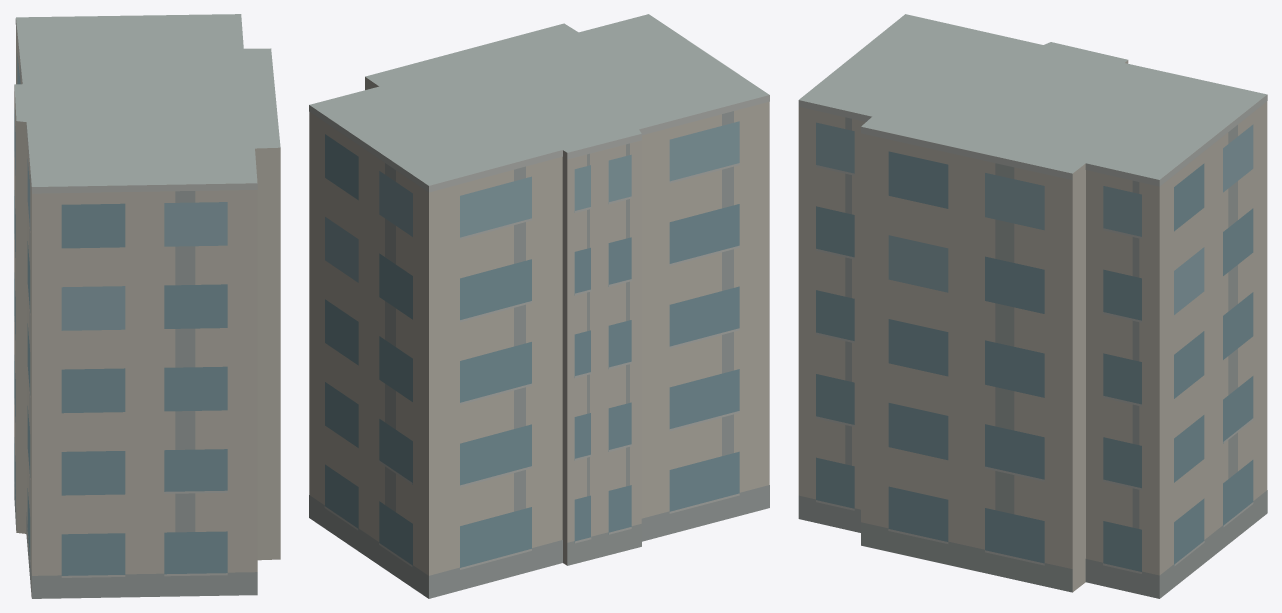
File: survey-upis-32479537.glb
The picture shows the model from 3 angles, left to right: view 1: azimuth 30°, elevation 25°; view 2: azimuth 150°, elevation 25°; view 3: azimuth 270°, elevation 25°; orthographic projection.
Visible parts, largest first — view 1: survey-upis-32479537.tmp; view 2: survey-upis-32479537.tmp; view 3: survey-upis-32479537.tmp.
Part boxes in pixels (left/top/right/bottom): survey-upis-32479537.tmp: left=14, top=14, right=280, bottom=598; survey-upis-32479537.tmp: left=309, top=14, right=769, bottom=598; survey-upis-32479537.tmp: left=798, top=14, right=1267, bottom=598.
Bounding box in the file's own units: 12.97 × 15.25 × 15.48.
